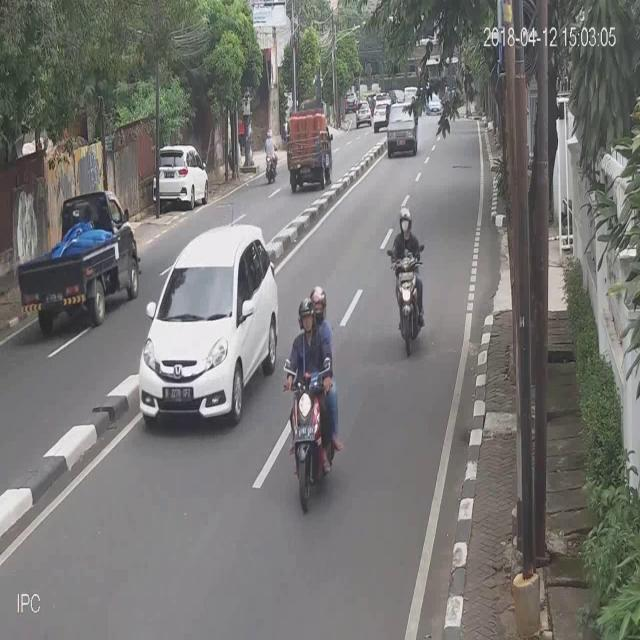bus: (282, 284, 344, 514), (386, 204, 428, 358), (263, 123, 279, 185)
motorcycle: (139, 224, 278, 424), (151, 144, 209, 209), (387, 100, 418, 156)
truck: (16, 191, 140, 325), (286, 109, 334, 191)
